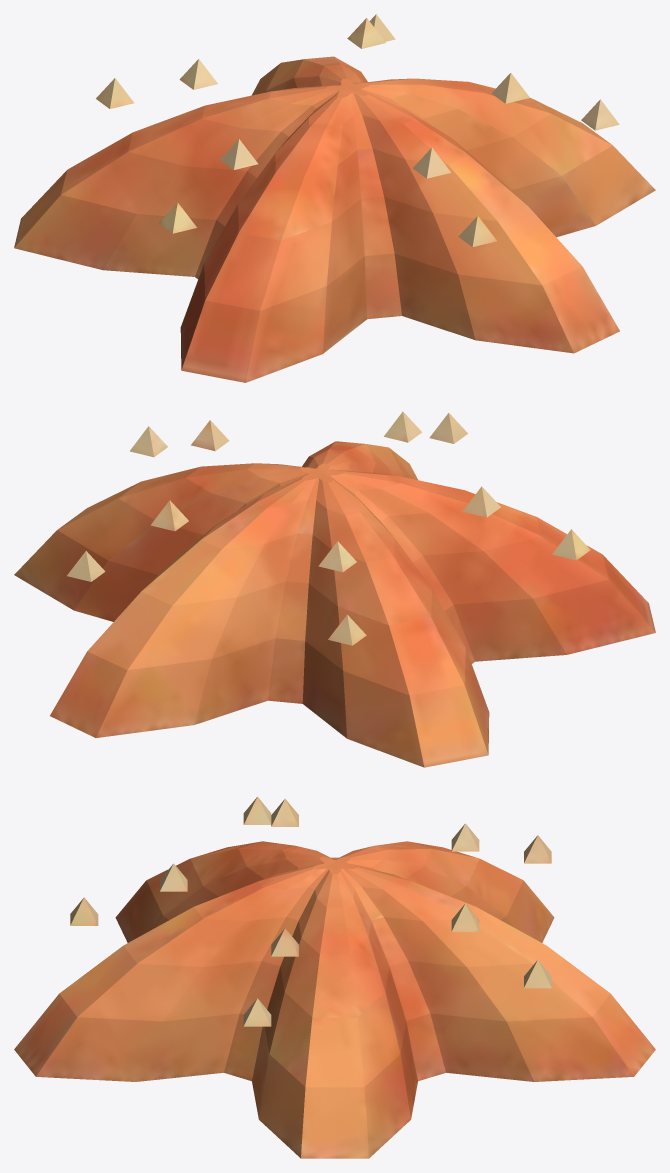
The model's file is coast_starfish.glb.
The picture shows the model from 3 angles, top to bottom: view 1: azimuth 30°, elevation 25°; view 2: azimuth 150°, elevation 25°; view 3: azimuth 270°, elevation 25°; orthographic projection. The views are drawn at different scales.
Parts seen in each view (by area): view 1: Static_Mesh; view 2: Static_Mesh; view 3: Static_Mesh.
Boxes of the visible parts, bbox=[...] form: Static_Mesh: bbox=[14, 14, 655, 382]; Static_Mesh: bbox=[14, 411, 655, 767]; Static_Mesh: bbox=[14, 796, 655, 1158].
Size of the model in its own units: 0.3408 by 0.097 by 0.3584.
Materials: 1 (1 with a texture image).
